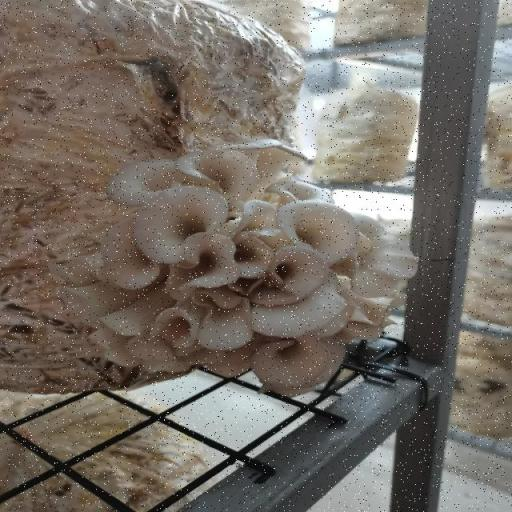White Oyster Mushroom: (98, 134, 421, 399)
